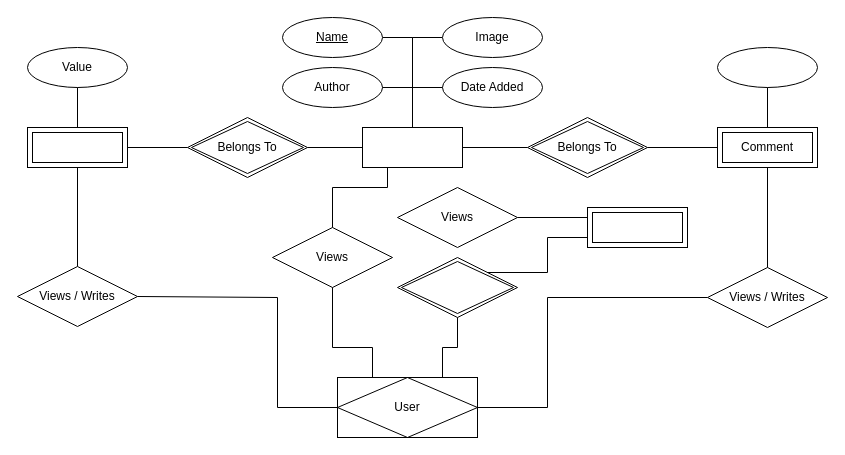
This 845x455 diagram has some shape labels left out. The centre of each missing label's shape, as x and y in pixels:
"Book" goes at (x=412, y=147).
"Form" goes at (x=637, y=227).
"Rating" goes at (x=77, y=147).
"Relationship" goes at (x=457, y=287).
"Text" goes at (x=767, y=67).
